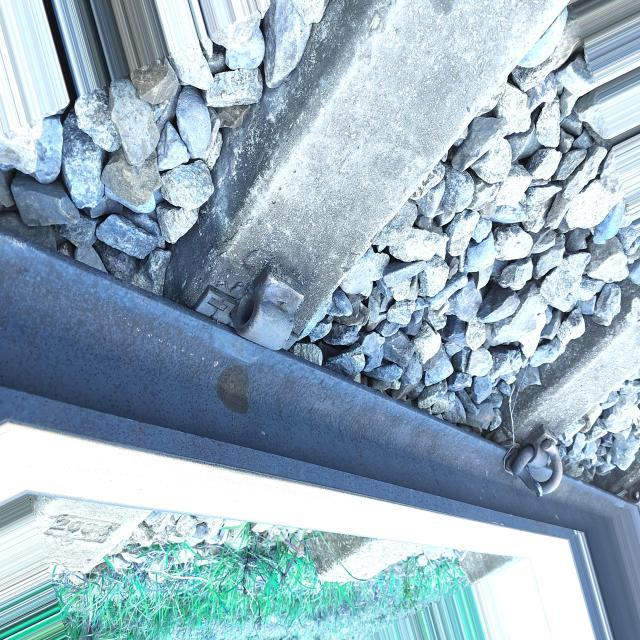Good Fasteners: (504, 428, 563, 496)
Missing Fastener: (226, 255, 313, 377)
